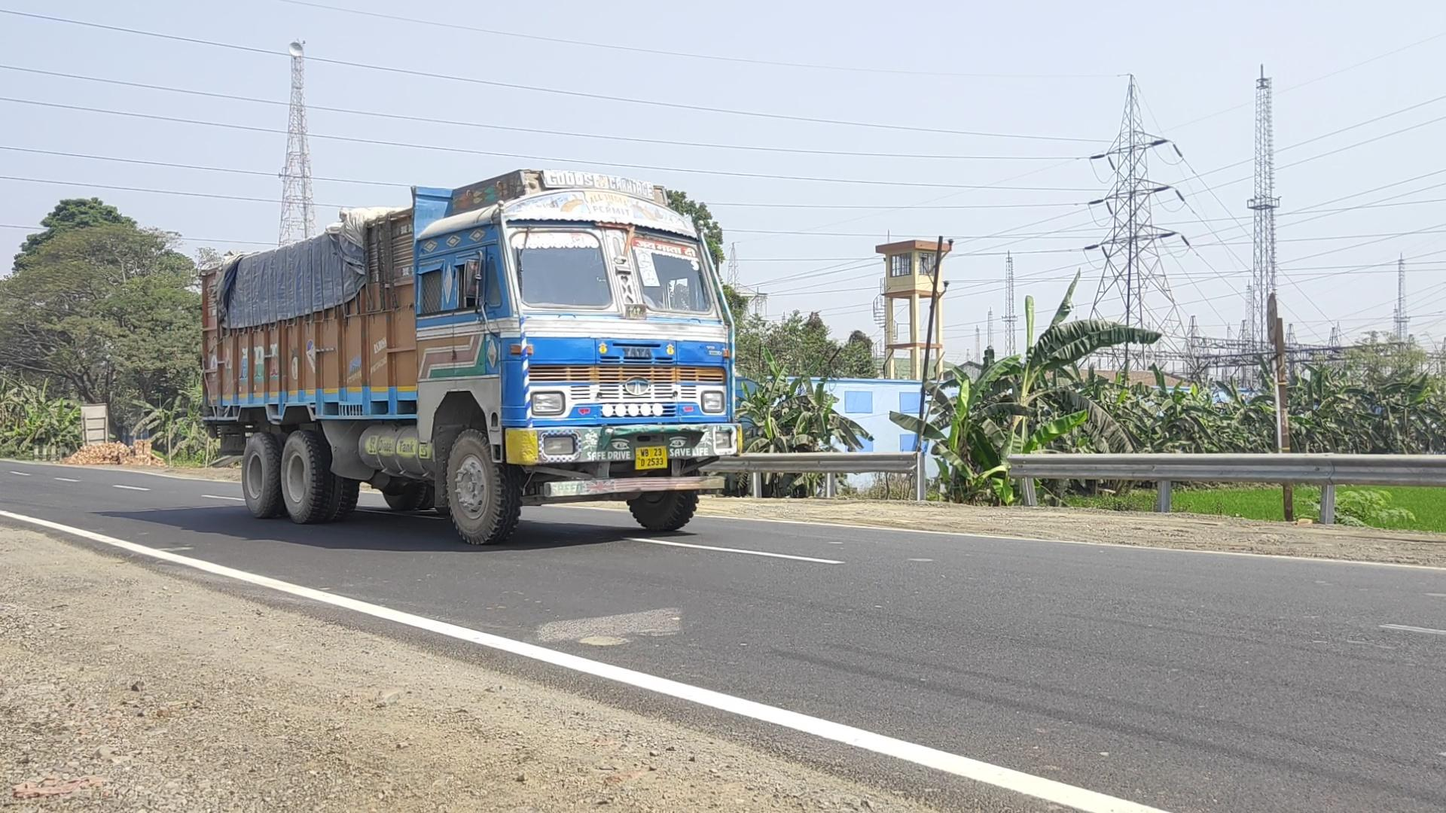truck: (200, 169, 743, 547)
